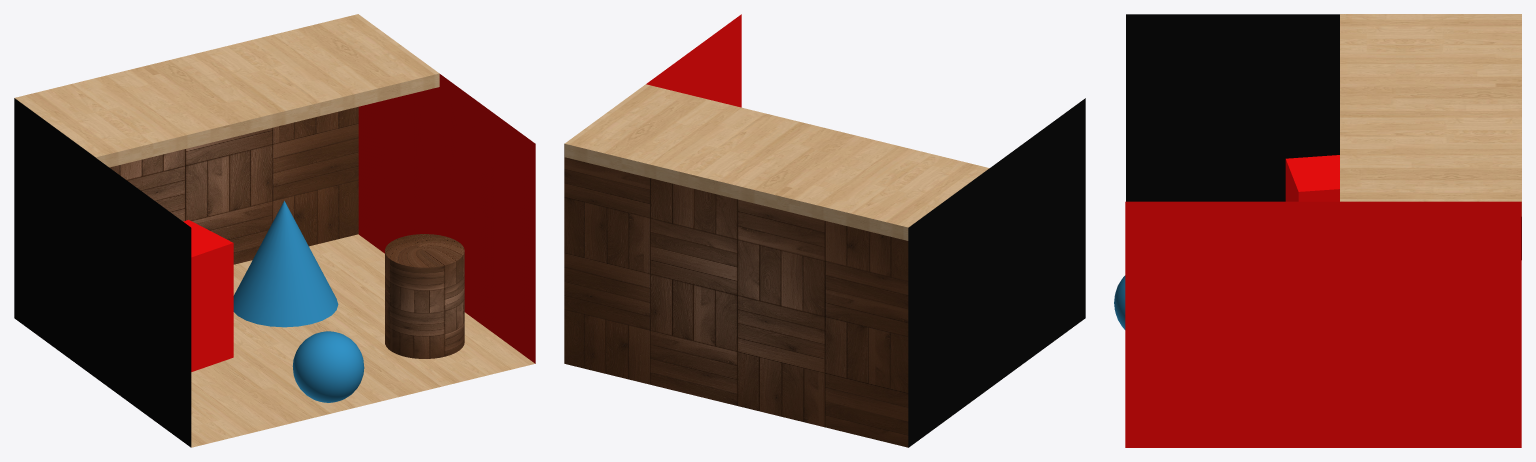
The model's file is PrimitivesModel.obj.
3 renders of one model, left to right at view 1: azimuth 30°, elevation 25°; view 2: azimuth 150°, elevation 25°; view 3: azimuth 270°, elevation 25°, orthographic. The views are drawn at different scales.
Visible parts, largest first — view 1: Plane004, Box002, Plane005, Plane006, Plane007, Cylinder001, Cone001, Box003, Sphere2Mesh; view 2: Plane007, Plane004, Box002, Plane005; view 3: Plane005, Plane004, Box002, Box003, Sphere2Mesh.
Boxes of the visible parts, left/top/right/bottom form: Plane004: left=14, top=98, right=191, bottom=447; Box002: left=15, top=14, right=439, bottom=167; Plane005: left=358, top=74, right=535, bottom=363; Plane006: left=191, top=234, right=534, bottom=447; Plane007: left=109, top=107, right=358, bottom=264; Cylinder001: left=385, top=234, right=464, bottom=358; Cone001: left=233, top=201, right=338, bottom=327; Box003: left=183, top=220, right=233, bottom=371; Sphere2Mesh: left=292, top=331, right=364, bottom=402; Plane007: left=564, top=144, right=908, bottom=447; Plane004: left=908, top=98, right=1085, bottom=447; Box002: left=564, top=84, right=989, bottom=240; Plane005: left=646, top=14, right=741, bottom=107; Plane005: left=1125, top=201, right=1521, bottom=447; Plane004: left=1126, top=14, right=1521, bottom=259; Box002: left=1340, top=14, right=1521, bottom=216; Box003: left=1285, top=155, right=1339, bottom=201; Sphere2Mesh: left=1114, top=275, right=1125, bottom=329.
Size of the model in its own units: 242 by 148 by 222.
Materials: 5 (4 with a texture image).
